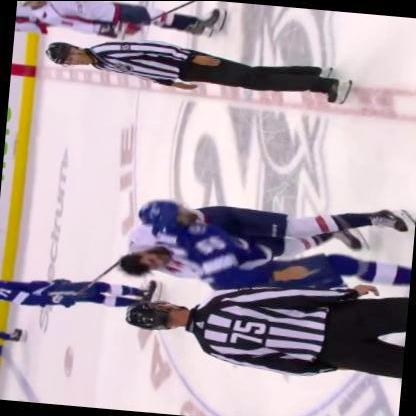non-Voilence: (45, 31, 354, 106), (15, 1, 231, 48), (0, 261, 167, 320)
voilence: (116, 189, 415, 328)
